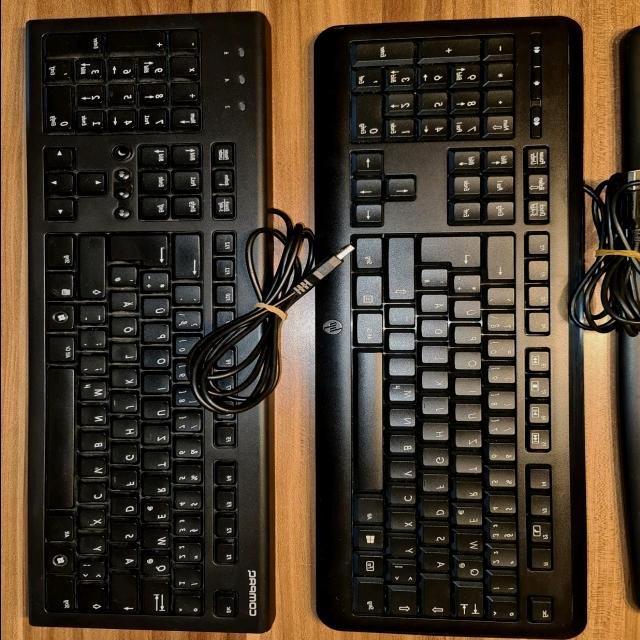0: (486, 339, 516, 359), (175, 335, 201, 357)
1: (489, 576, 519, 597), (175, 570, 204, 591)
2: (175, 543, 204, 564), (490, 550, 520, 570)
3: (489, 522, 519, 544), (175, 517, 205, 538)
4: (176, 492, 204, 512), (490, 496, 518, 516)
5: (175, 466, 204, 486), (487, 468, 515, 488)
6: (175, 440, 204, 461), (488, 443, 516, 463)
7: (175, 413, 204, 435), (487, 416, 515, 436)
8: (488, 392, 517, 412), (174, 386, 200, 408)
9: (488, 366, 517, 386), (175, 361, 201, 383)
a: (111, 549, 141, 570), (424, 554, 452, 573)
accent: (485, 287, 515, 307), (174, 284, 200, 306)
ae: (112, 293, 140, 314), (421, 295, 449, 315)
alt-left: (46, 516, 76, 544), (356, 498, 386, 526)
altgr-right: (355, 311, 383, 347), (45, 337, 75, 363)
b: (80, 432, 110, 454), (390, 436, 418, 456)
c: (80, 484, 109, 505), (390, 487, 418, 507)
caret: (174, 597, 204, 619), (490, 602, 520, 624)
comma: (80, 356, 108, 378), (387, 358, 415, 378)
d: (111, 498, 141, 518), (423, 501, 451, 520)
del: (487, 237, 517, 283), (174, 235, 202, 281)
e: (143, 504, 172, 524), (456, 508, 485, 527)
enter: (109, 236, 171, 270), (421, 237, 483, 271)
f: (112, 472, 141, 492), (423, 475, 451, 495)
g: (111, 445, 141, 467), (423, 449, 451, 469)
h: (112, 420, 142, 442), (423, 423, 451, 443)
hash: (111, 267, 140, 289), (421, 270, 450, 290)
i: (143, 375, 172, 396), (455, 379, 483, 398)
j: (421, 397, 449, 417), (112, 395, 140, 415)
k: (422, 371, 450, 391), (112, 369, 137, 388)
keyboard: (316, 17, 593, 640), (25, 10, 287, 640)
l: (111, 345, 141, 365), (421, 345, 449, 365)
less: (389, 565, 419, 587), (79, 562, 109, 583)
m: (81, 382, 110, 404), (387, 382, 415, 402)
minus: (80, 305, 108, 327), (389, 308, 417, 328)
n: (80, 407, 109, 429), (387, 409, 415, 429)
o: (143, 349, 173, 371), (455, 353, 483, 373)
oe: (111, 319, 140, 340), (420, 320, 450, 340)
p: (143, 324, 172, 346), (454, 327, 483, 346)
plus: (142, 273, 172, 295), (454, 276, 484, 296)
point: (80, 331, 108, 352), (387, 332, 415, 352)
q: (142, 556, 172, 578), (456, 561, 486, 582)
r: (143, 477, 172, 499), (456, 482, 484, 501)
s: (110, 524, 140, 544), (424, 528, 452, 548)
shift-left: (387, 588, 417, 618), (78, 586, 107, 614)
shift-lock: (424, 579, 452, 619), (110, 575, 138, 615)
shift-right: (389, 238, 417, 302), (81, 236, 107, 301)
space: (45, 368, 75, 511), (355, 351, 383, 493)
ss: (487, 314, 517, 334), (175, 310, 201, 332)
strg-left: (354, 580, 384, 617), (46, 576, 75, 614)
strg-right: (44, 235, 74, 269), (354, 235, 382, 271)
t: (143, 452, 172, 472), (456, 456, 484, 475)
tab: (457, 588, 485, 620), (143, 583, 170, 615)
u: (456, 405, 484, 424), (143, 401, 169, 421)
ue: (142, 299, 172, 321), (454, 301, 484, 321)
v: (80, 458, 110, 479), (391, 463, 418, 481)
w: (143, 529, 173, 551), (457, 535, 485, 555)
x: (79, 510, 108, 531), (390, 513, 418, 532)
y: (79, 535, 108, 557), (390, 539, 418, 559)
z: (144, 427, 172, 447), (456, 431, 484, 449)
